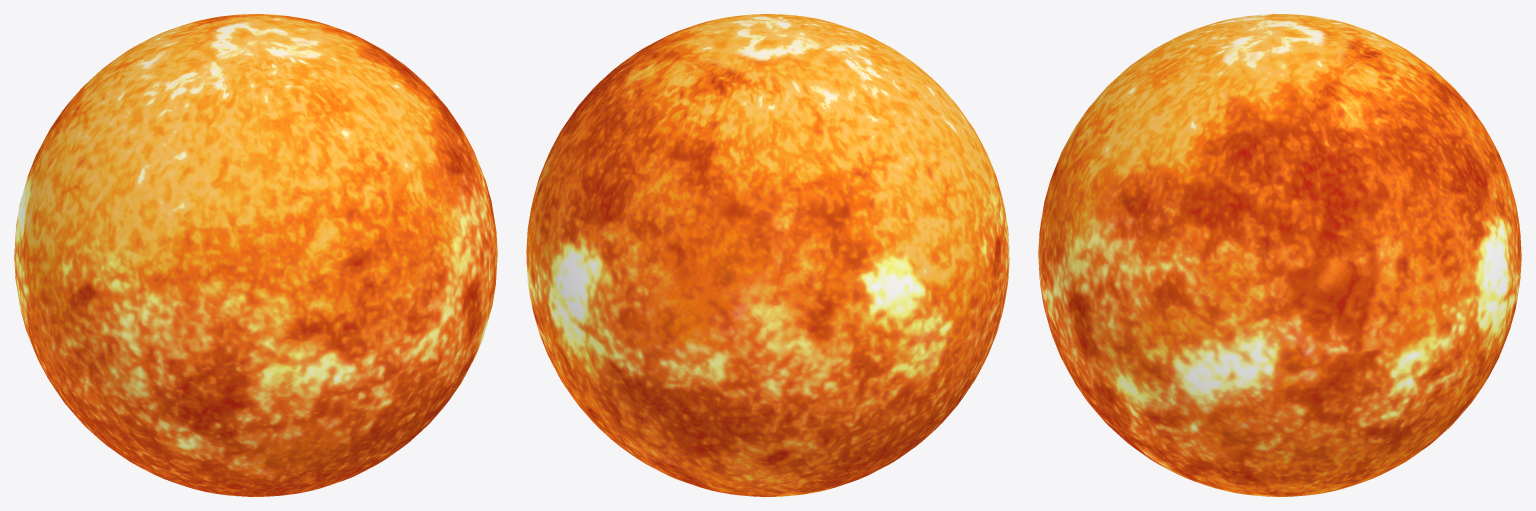
The model's file is Sun.glb.
The picture shows the model from 3 angles, left to right: view 1: azimuth 30°, elevation 25°; view 2: azimuth 150°, elevation 25°; view 3: azimuth 270°, elevation 25°; orthographic projection.
Parts seen in each view (by area): view 1: sun; view 2: sun; view 3: sun.
Boxes of the visible parts, bbox=[...] form: sun: bbox=[14, 14, 497, 496]; sun: bbox=[526, 14, 1009, 496]; sun: bbox=[1038, 14, 1521, 496].
Size of the model in its own units: 11.99 by 11.99 by 11.99.
1 material, 1 textured.
